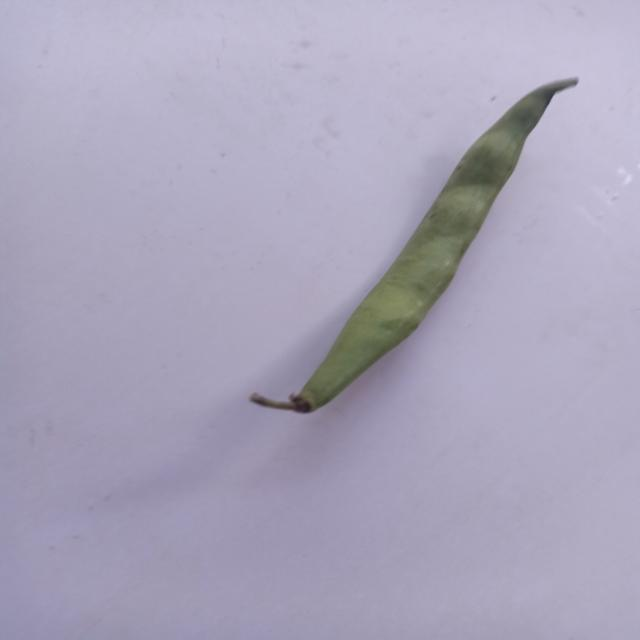Beans: (240, 66, 606, 437)
